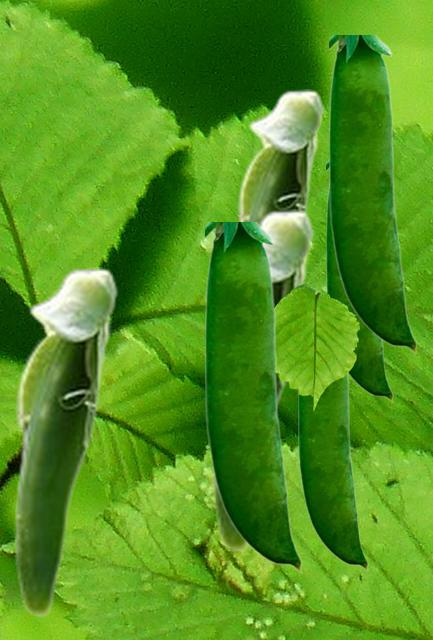pea: (13, 267, 118, 617), (211, 209, 314, 552), (205, 222, 301, 572), (329, 35, 416, 353), (326, 160, 392, 401), (298, 374, 367, 570), (235, 89, 324, 221)
